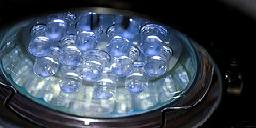LED: (5, 13, 196, 116)
